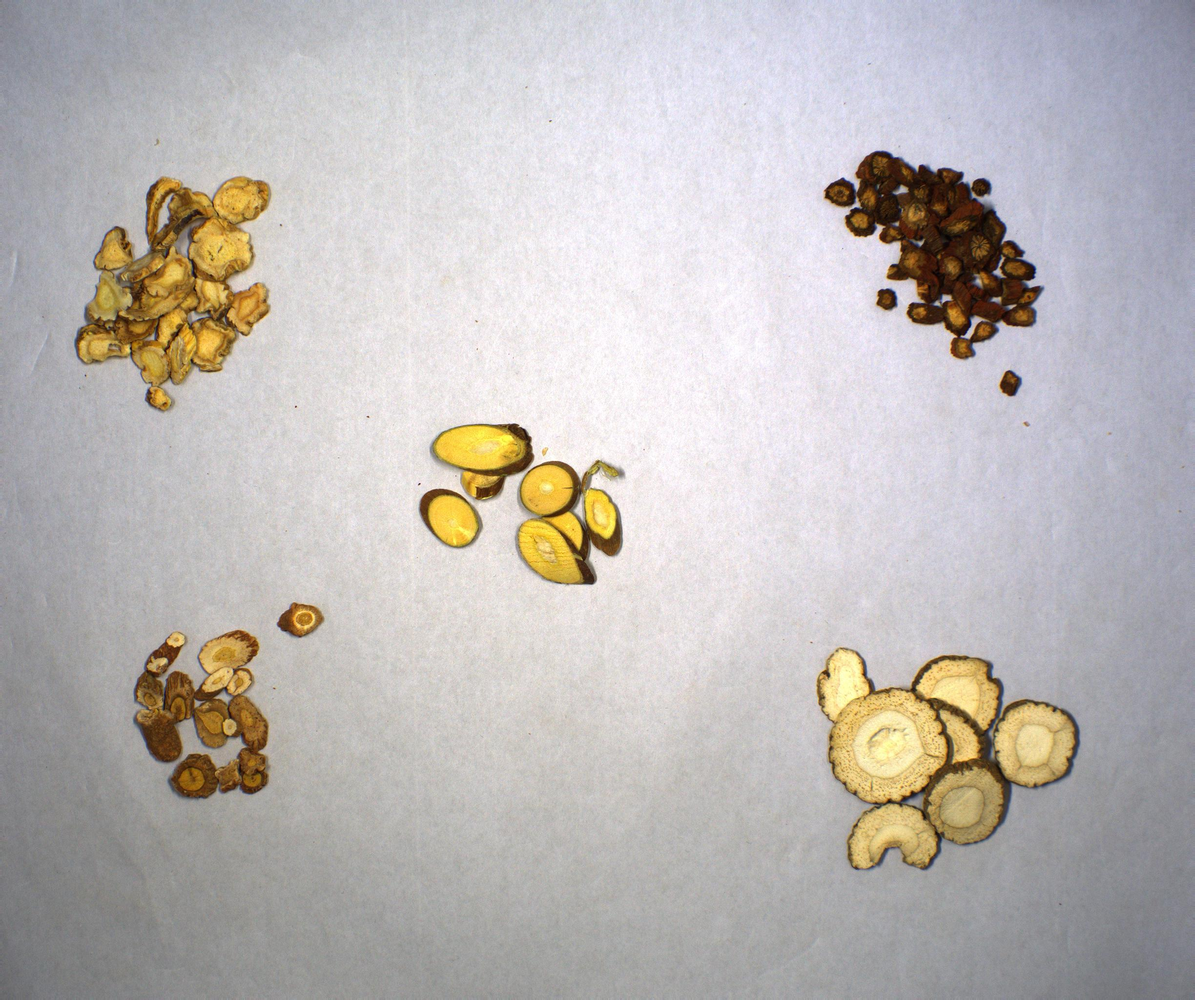baizhi: (816, 646, 1080, 873)
banlangen: (132, 601, 325, 800)
danshen: (826, 150, 1047, 399)
jiegeng: (75, 177, 272, 414)
sangzhi: (419, 422, 626, 587)
